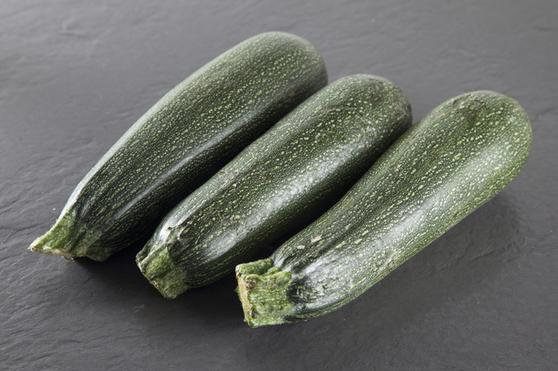zucchini: (35, 20, 317, 263)
